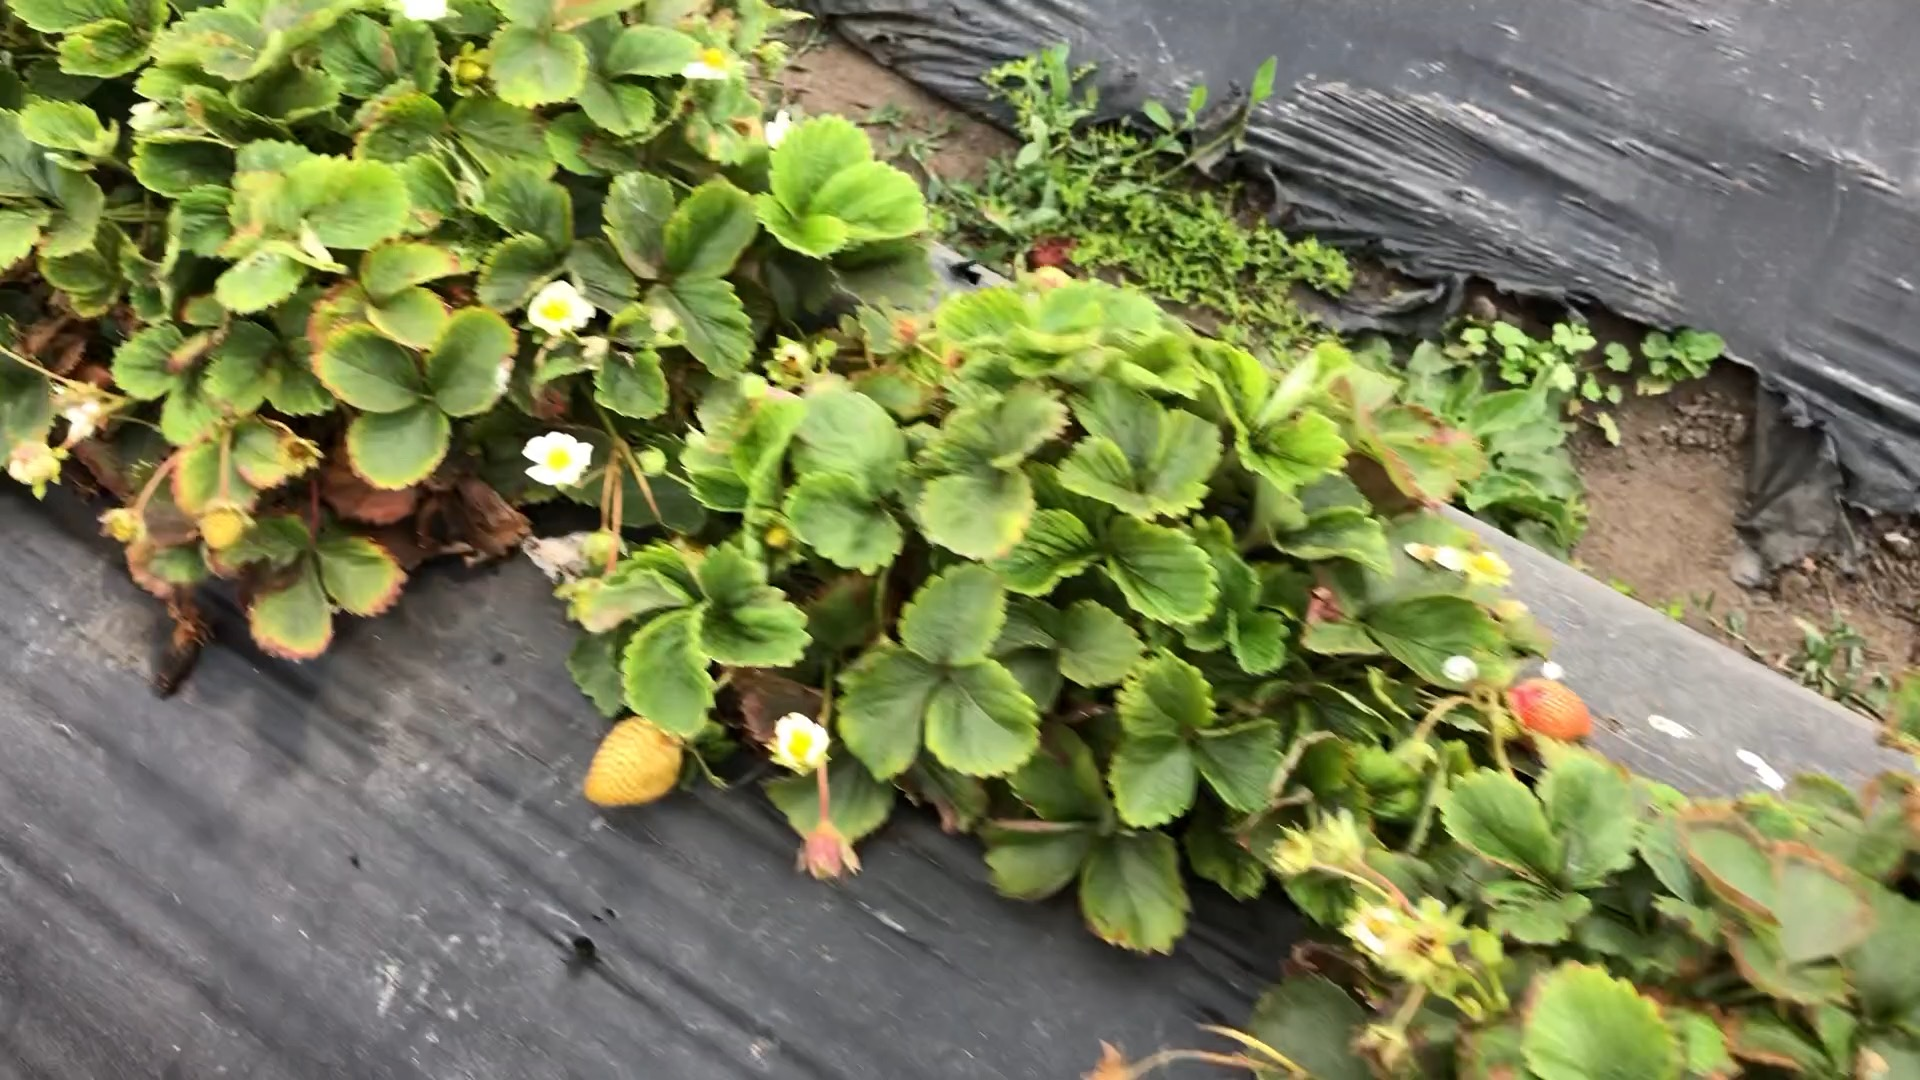unripe_strawberry: (580, 711, 688, 811), (1505, 673, 1602, 749), (196, 496, 247, 553)
